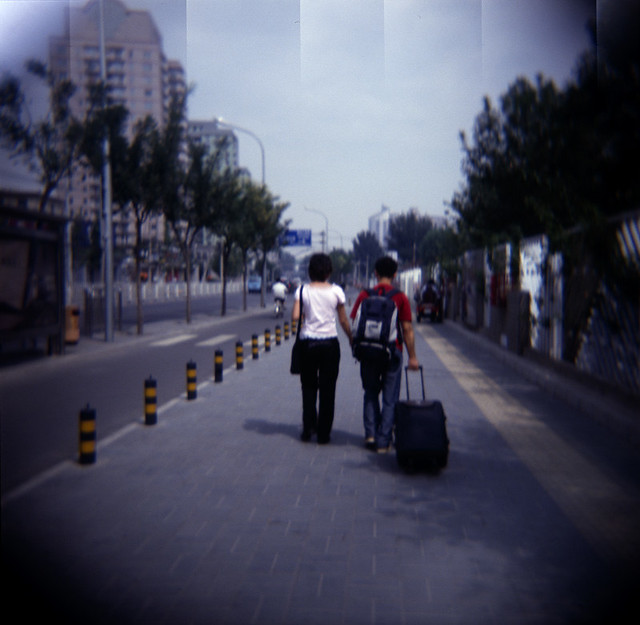backpack: (347, 258, 420, 410), (344, 286, 400, 447), (287, 268, 347, 405), (308, 281, 380, 361), (327, 277, 404, 348), (278, 281, 317, 395), (287, 280, 329, 372), (281, 266, 345, 323), (348, 287, 397, 361), (294, 281, 344, 337), (365, 282, 411, 340), (285, 285, 308, 373), (386, 281, 422, 334), (354, 294, 391, 344), (286, 278, 322, 322), (349, 288, 383, 331), (289, 282, 311, 339), (343, 288, 366, 341), (416, 279, 440, 323), (288, 331, 306, 375), (287, 279, 304, 322), (270, 278, 286, 306)
bicycle: (412, 283, 440, 323), (270, 278, 286, 315)
bottle: (75, 405, 95, 465), (142, 377, 157, 424)
bus: (0, 200, 71, 362)
car: (338, 256, 412, 396), (339, 264, 426, 330), (0, 292, 69, 360), (349, 293, 394, 361), (383, 277, 437, 316), (403, 275, 448, 320), (75, 401, 95, 464), (396, 265, 421, 315), (260, 276, 300, 305), (415, 280, 441, 323), (406, 276, 426, 320), (244, 273, 282, 295), (227, 275, 260, 291), (344, 286, 363, 313), (273, 274, 292, 298), (270, 278, 286, 306), (280, 273, 299, 294), (245, 273, 262, 292)
cell phone: (349, 293, 394, 363)
dog: (389, 367, 447, 473)
fire hydrant: (345, 287, 398, 410), (75, 403, 96, 464), (142, 377, 157, 425), (64, 305, 79, 345), (270, 278, 286, 310), (184, 360, 196, 400)
fork: (612, 214, 637, 294)
handbag: (345, 259, 421, 431), (287, 270, 346, 421), (345, 287, 398, 410), (392, 364, 448, 462), (315, 286, 382, 366), (298, 281, 350, 370), (286, 279, 324, 371), (349, 293, 394, 361), (289, 279, 334, 338), (345, 288, 380, 345), (278, 277, 314, 331), (287, 300, 309, 376), (399, 349, 427, 405), (282, 280, 303, 344), (338, 287, 361, 343), (290, 282, 310, 341), (296, 282, 318, 329), (288, 331, 306, 375), (283, 279, 299, 320), (290, 281, 303, 322), (270, 276, 286, 305)
horse: (270, 278, 286, 306)
kite: (270, 278, 286, 308)
motorcycle: (268, 273, 297, 313), (416, 284, 441, 323), (407, 279, 428, 322), (270, 278, 286, 306)
parking meter: (75, 403, 96, 464), (270, 278, 286, 308)
person: (290, 245, 422, 444), (557, 202, 636, 382), (346, 256, 417, 453), (283, 252, 354, 444), (373, 312, 443, 465), (339, 290, 395, 419), (348, 258, 424, 352), (282, 257, 350, 358), (354, 329, 406, 456), (286, 274, 338, 400), (375, 267, 425, 385), (348, 284, 401, 372), (388, 287, 419, 367), (500, 281, 529, 356), (345, 288, 380, 345), (414, 258, 450, 312), (395, 267, 422, 326), (426, 276, 459, 322), (259, 280, 300, 312), (75, 401, 95, 464), (116, 250, 138, 306), (423, 264, 444, 318), (416, 278, 441, 323), (271, 274, 294, 320), (450, 275, 471, 325), (264, 271, 286, 315), (407, 279, 428, 322), (461, 277, 478, 328), (432, 272, 449, 320), (281, 275, 299, 319), (402, 268, 422, 305), (287, 279, 304, 322), (431, 260, 447, 305), (141, 377, 156, 425), (350, 285, 376, 312), (402, 278, 418, 320), (416, 273, 439, 302), (347, 288, 367, 319), (64, 304, 79, 345), (440, 272, 453, 318), (119, 251, 136, 286), (269, 288, 287, 321), (459, 277, 472, 321), (427, 258, 444, 291), (445, 274, 457, 318), (280, 272, 299, 299), (453, 276, 465, 318), (274, 274, 292, 302), (270, 278, 286, 308), (184, 360, 196, 400), (39, 269, 53, 303), (490, 273, 503, 306), (134, 255, 148, 284), (211, 349, 223, 382), (246, 332, 259, 359)
sports ball: (270, 278, 286, 306)
suitcase: (344, 284, 427, 448), (373, 312, 443, 465), (328, 342, 414, 454), (350, 368, 445, 456), (391, 366, 448, 474), (349, 293, 394, 361), (416, 284, 441, 323), (270, 278, 286, 306)
teddy bear: (270, 276, 286, 305)
tie: (288, 282, 313, 371)
traffic light: (349, 293, 394, 361), (75, 403, 96, 465), (141, 376, 156, 424), (184, 360, 196, 400), (270, 278, 286, 308)
truck: (245, 273, 262, 292)
